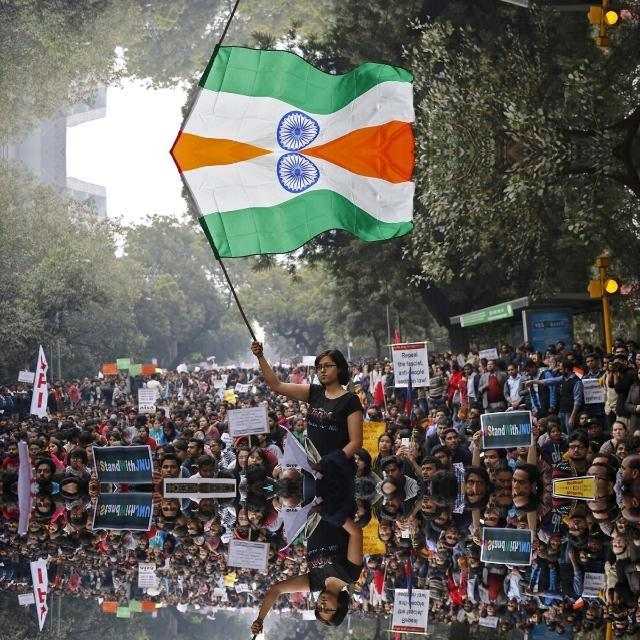person: (284, 346, 378, 488), (284, 488, 378, 630)
